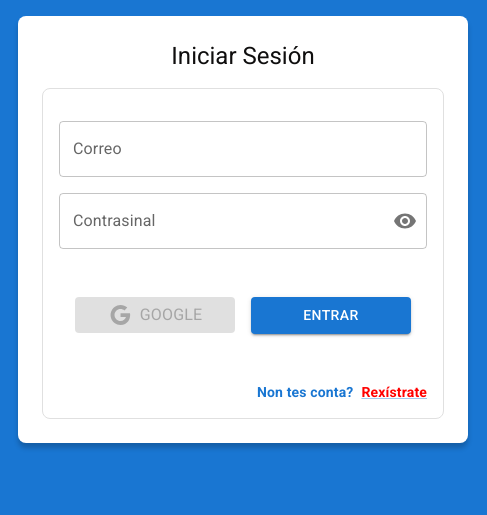
Login Page › should display validation errors when form is submitted with invalid data
Click the button "Entrar".
click(331, 315)  # box [251,297,411,334]
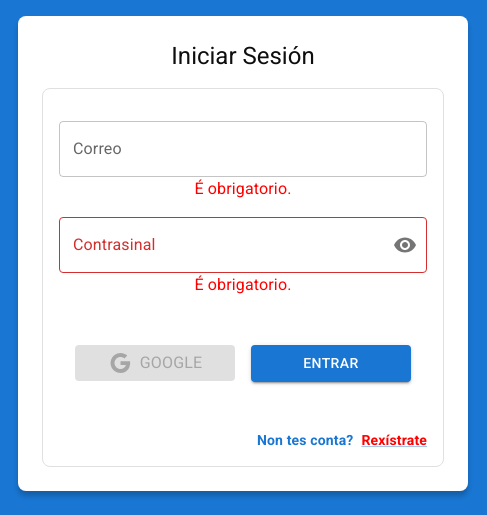
Now the text "É obrigatorio." is shown 2 times, box [194,179,292,198]; [194,275,292,294]
